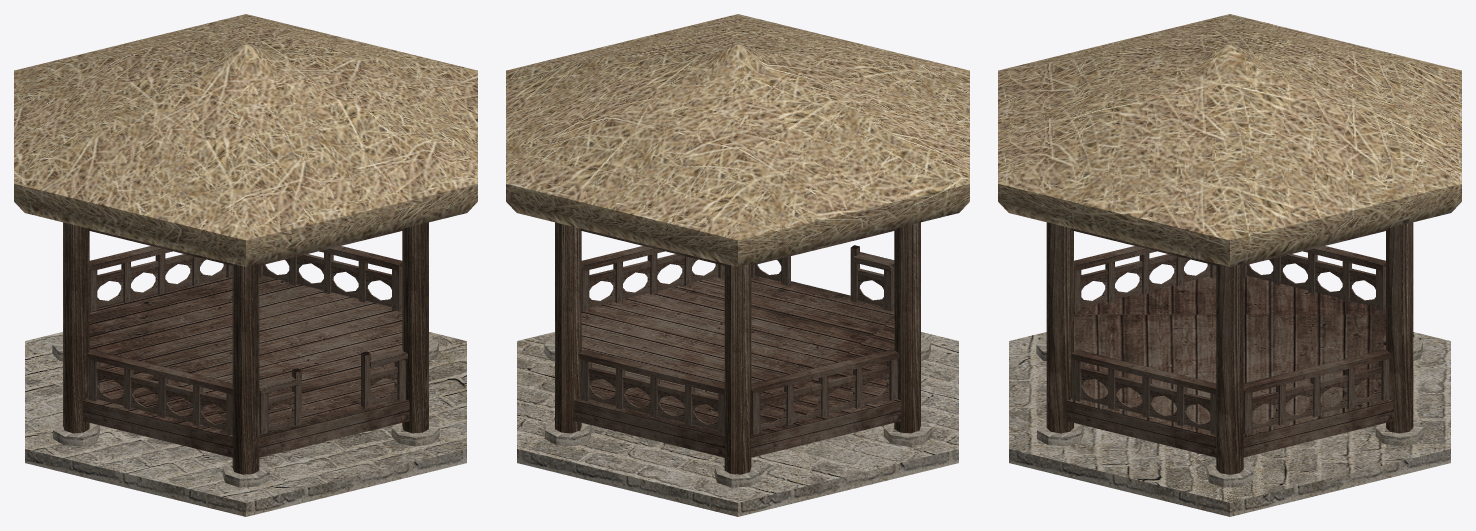
File: KoreanMansion_Jungja.FBX
3 views of the same model, side by side, from view 1: azimuth 30°, elevation 25°; view 2: azimuth 150°, elevation 25°; view 3: azimuth 270°, elevation 25° (orthographic).
Visible parts, largest first — view 1: Woodplate_j, Marble_j; view 2: Woodplate_j, Marble_j; view 3: Woodplate_j, Marble_j.
Part boxes in pixels (x1,y1,x2,y2): Woodplate_j: [14, 14, 477, 474]; Marble_j: [25, 332, 466, 516]; Woodplate_j: [506, 14, 969, 474]; Marble_j: [517, 332, 958, 516]; Woodplate_j: [998, 14, 1461, 474]; Marble_j: [1009, 332, 1450, 516].
Size of the model in its own units: 564 by 423 by 488.
